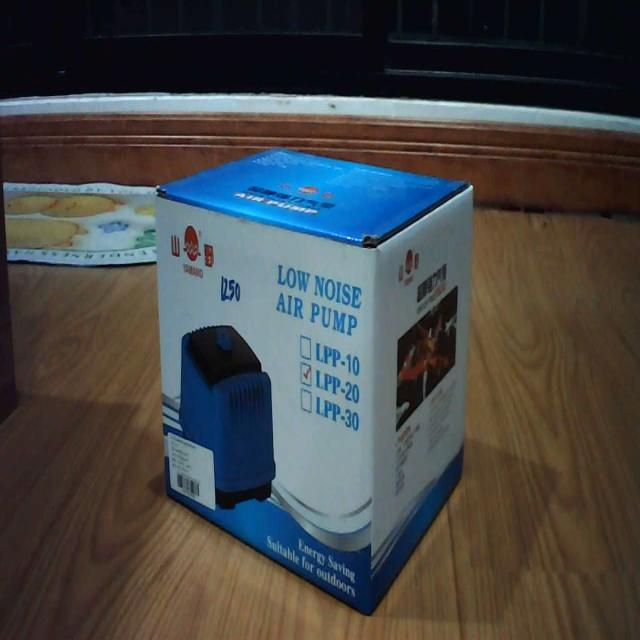YAMANO_LPP_20: (148, 126, 478, 626)
